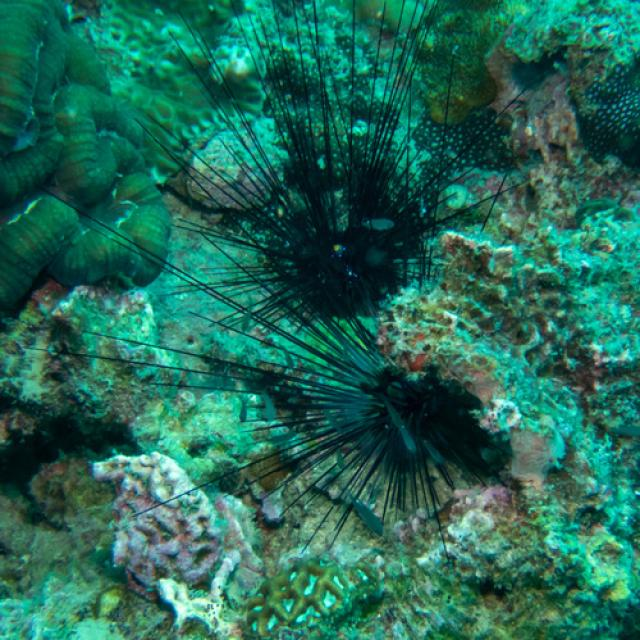Urchin: (33, 207, 520, 554), (172, 1, 488, 339)
